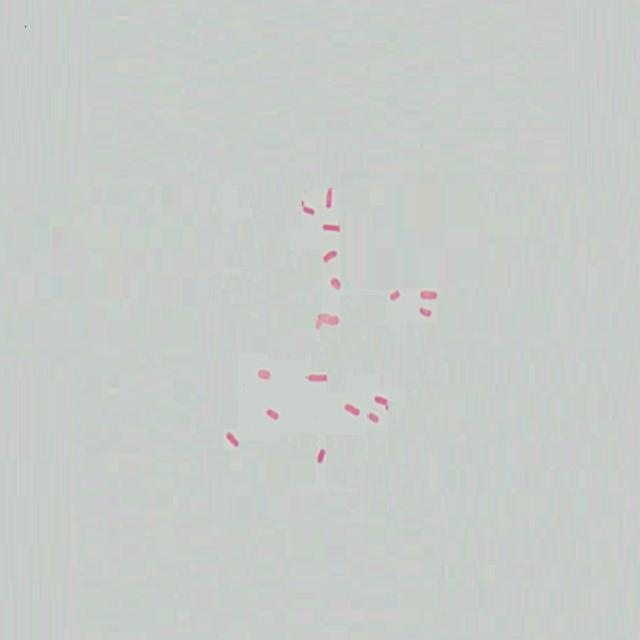E-coli: (317, 311, 344, 332), (261, 402, 282, 428), (223, 425, 243, 452), (307, 367, 330, 389), (319, 242, 340, 264), (342, 398, 363, 420), (254, 363, 274, 386), (418, 284, 440, 303), (313, 443, 329, 469), (323, 182, 335, 213), (417, 304, 436, 321), (328, 273, 344, 293), (321, 220, 341, 235), (366, 408, 381, 427), (373, 390, 388, 408), (301, 204, 318, 217), (390, 286, 399, 304)
